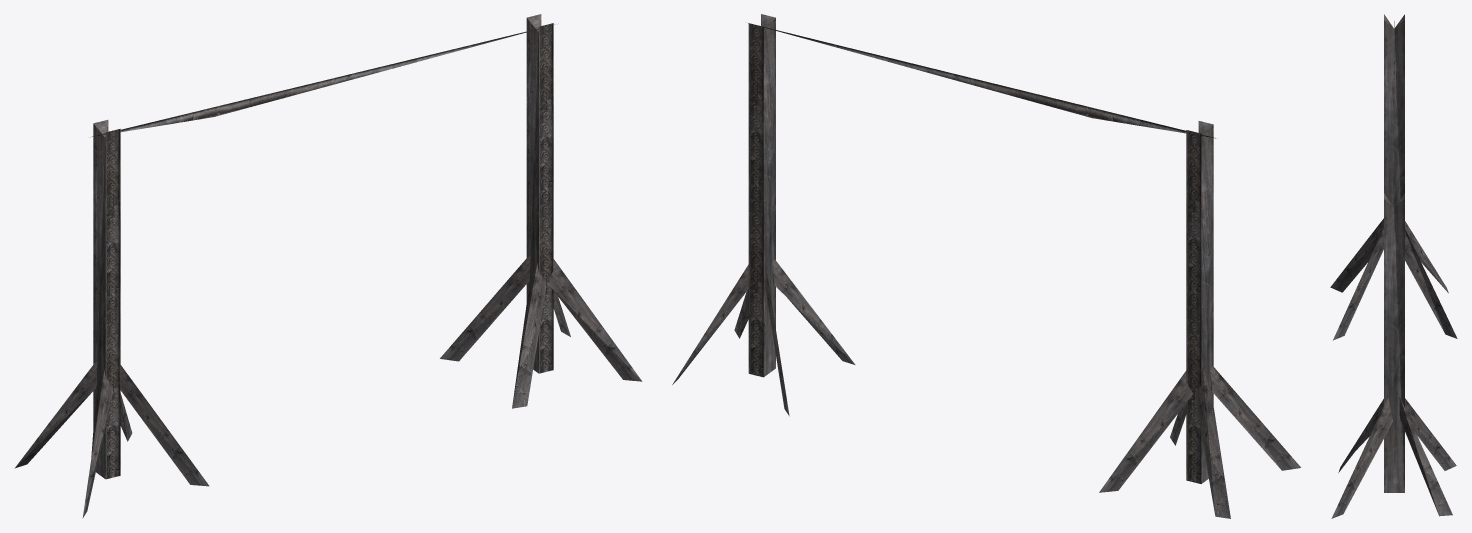
File: tavern_cookerholder_LOD.fbx
3 renders of one model, left to right at view 1: azimuth 30°, elevation 25°; view 2: azimuth 150°, elevation 25°; view 3: azimuth 270°, elevation 25°, orthographic. The views are drawn at different scales.
Visible parts, largest first — view 1: Default_Layer; view 2: Default_Layer; view 3: Default_Layer.
Part boxes in pixels (x1,y1,x2,y2): Default_Layer: [14, 14, 642, 518]; Default_Layer: [672, 14, 1300, 518]; Default_Layer: [1330, 14, 1457, 518].
Size of the model in its own units: 1063 by 635 by 248.
1 material, 1 textured.
